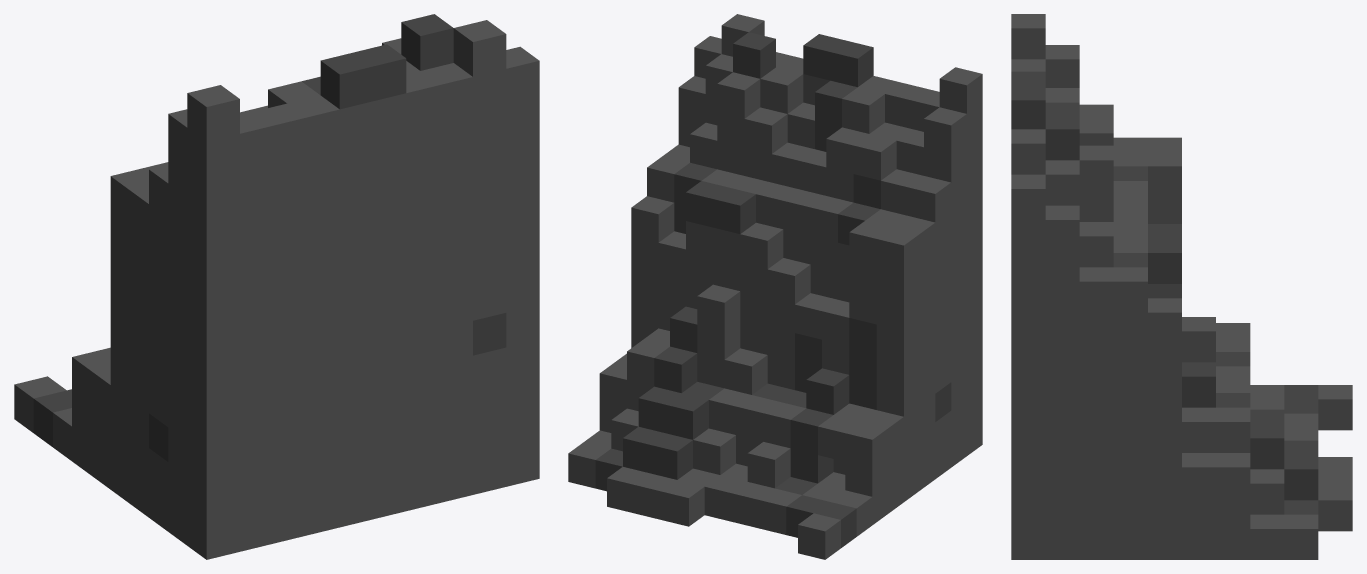
Rendered from Stein_Rand-01.obj.
The picture shows the model from 3 angles, left to right: view 1: azimuth 30°, elevation 25°; view 2: azimuth 150°, elevation 25°; view 3: azimuth 270°, elevation 25°; orthographic projection. The views are drawn at different scales.
Bounding box in the file's own units: 1 × 1.3 × 1.
1 material, 1 textured.
